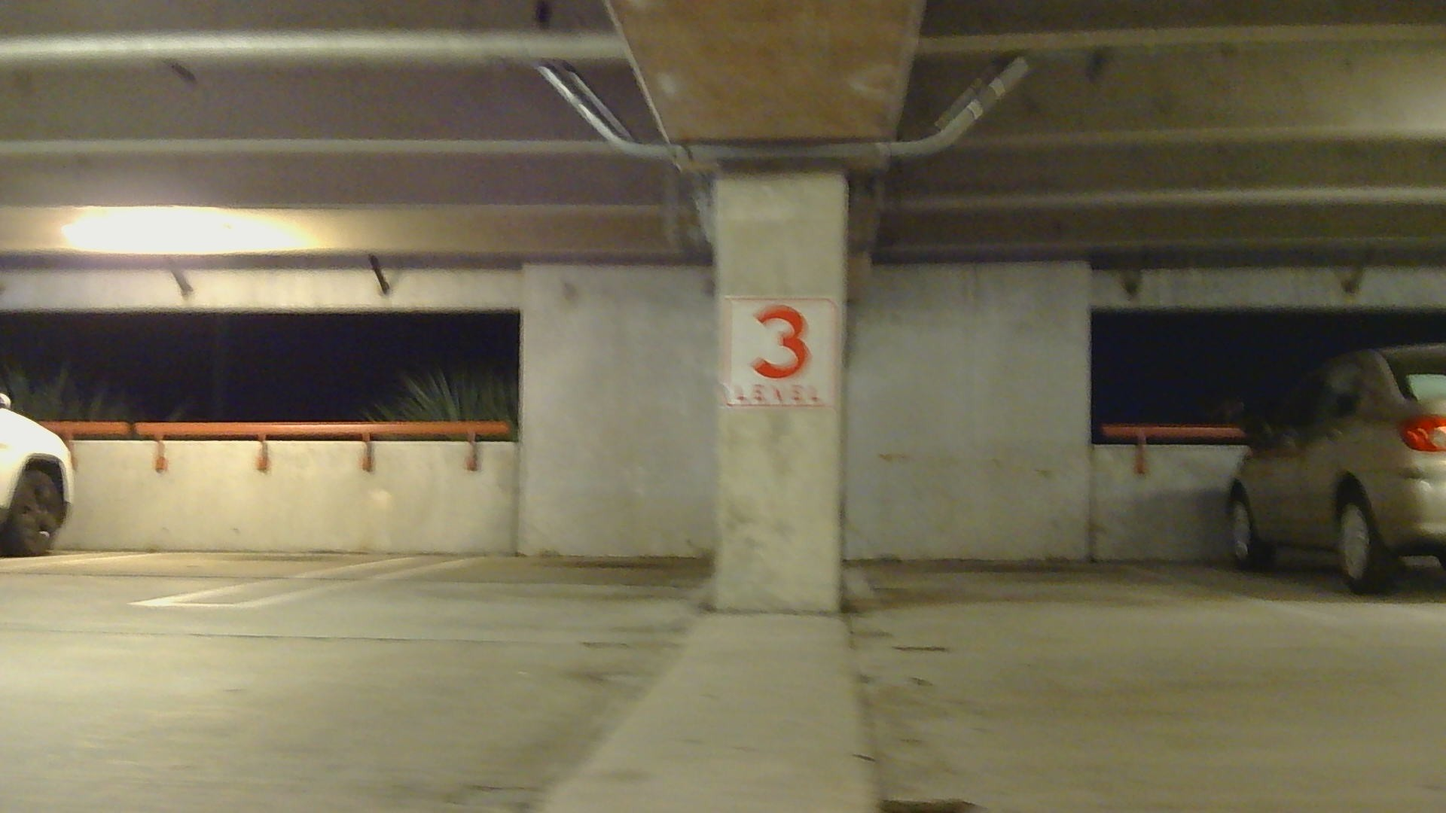empty_spot: (849, 485, 1343, 620), (238, 487, 717, 616), (6, 484, 422, 609)
occupied_spot: (1228, 342, 1445, 600)
